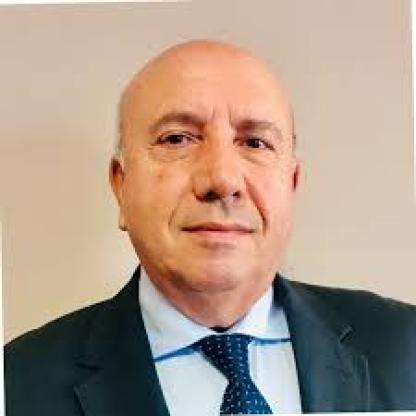person: (103, 39, 304, 328)
